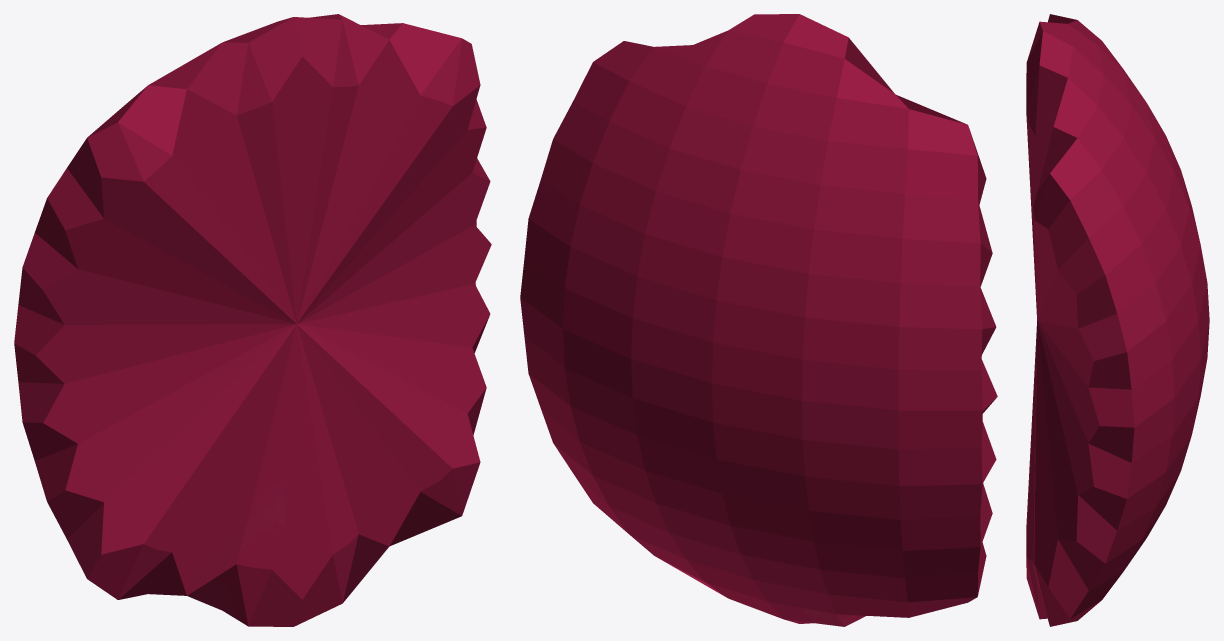
Rendered from Onion4.fbx.
3 renders of one model, left to right at view 1: azimuth 30°, elevation 25°; view 2: azimuth 150°, elevation 25°; view 3: azimuth 270°, elevation 25°, orthographic. The views are drawn at different scales.
Visible parts, largest first — view 1: Sphere; view 2: Sphere; view 3: Sphere.
Boxes of the visible parts, <box> form: Sphere: <box>14,14,491,626</box>; Sphere: <box>520,14,997,626</box>; Sphere: <box>1026,14,1209,626</box>.
Size of the model in its own units: 214 by 269 by 77.23.
